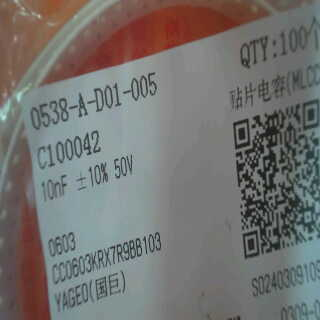10nF: (39, 167, 76, 201)
